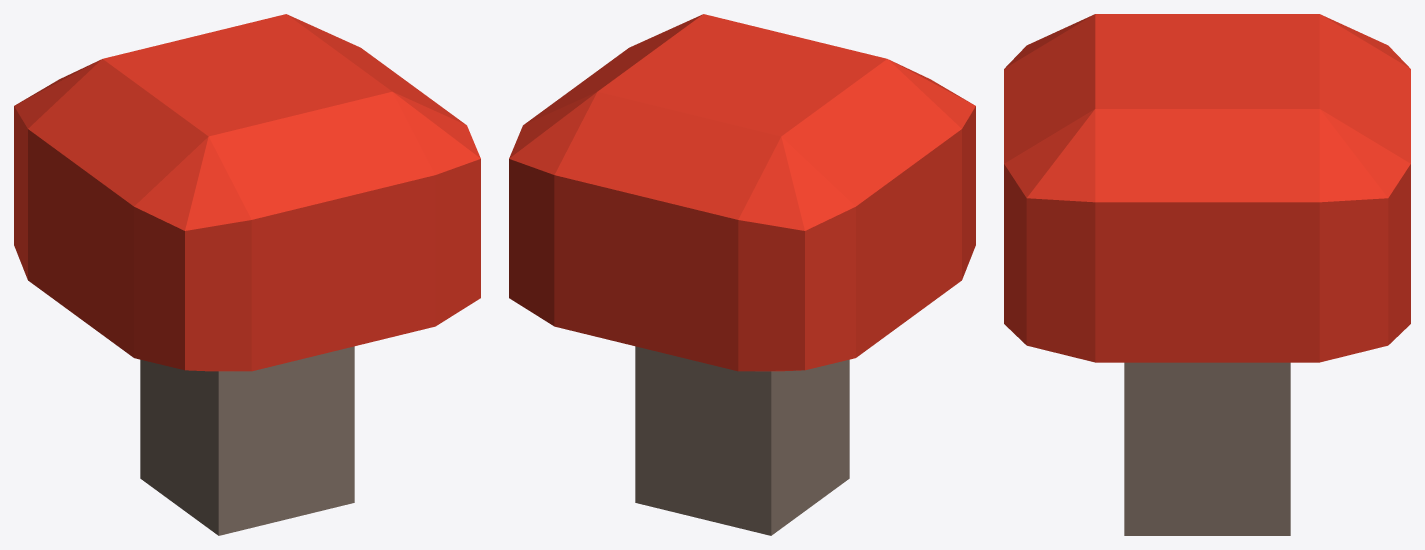
Rendered from SM_Mushroom_01_A.fbx.
The picture shows the model from 3 angles, left to right: view 1: azimuth 30°, elevation 25°; view 2: azimuth 150°, elevation 25°; view 3: azimuth 270°, elevation 25°; orthographic projection. The views are drawn at different scales.
Parts seen in each view (by area): view 1: pCube474; view 2: pCube474; view 3: pCube474.
Boxes of the visible parts, left/top/right/bottom form: pCube474: left=14, top=14, right=480, bottom=535; pCube474: left=509, top=14, right=975, bottom=535; pCube474: left=1004, top=14, right=1410, bottom=535.
Size of the model in its own units: 9.56 by 11.4 by 9.56.
